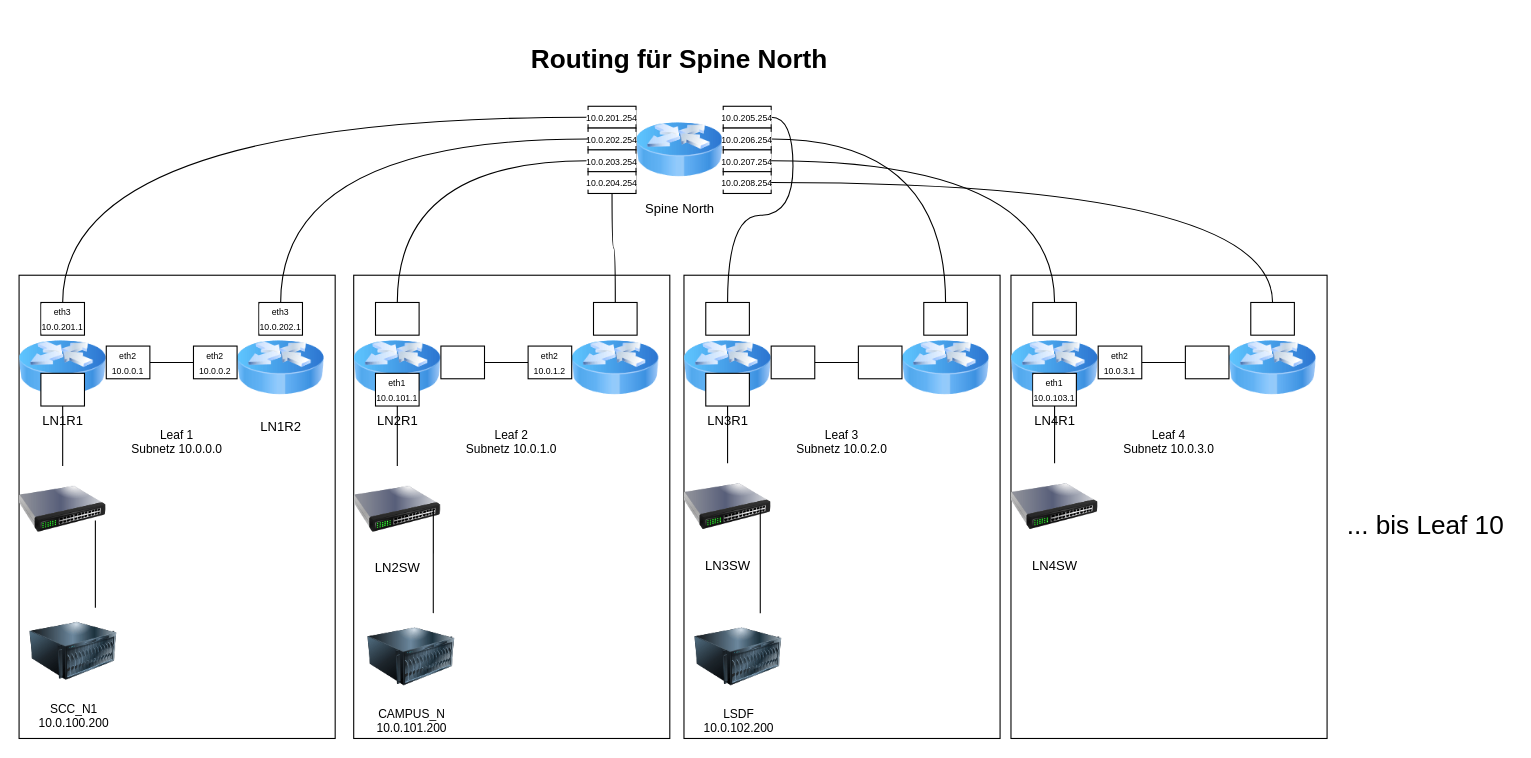
This 1531x758 diagram has some shape labels left out. Here are the shapes that lost their labels. From the top down, the centre of each, then its label:
the point at 396,318: eth3 10.0.203.1
the point at 614,318: eth3 10.0.204.1
the point at 727,318: eth3 10.0.205.1
the point at 945,318: eth3 10.0.206.1
the point at 1054,318: eth3 10.0.207.1
the point at 1272,318: eth3 10.0.208.1
the point at 462,362: eth2 10.0.1.1
the point at 614,367: LN2R2
the point at 792,362: eth2 10.0.2.1
the point at 879,362: eth2 10.0.2.2
the point at 945,367: LN3R2
the point at 1206,362: eth2 10.0.3.2
the point at 1272,367: LN4R2
the point at 62,389: eth1 10.0.100.1
the point at 727,389: eth1 10.0.102.1
the point at 62,509: LN1SW
